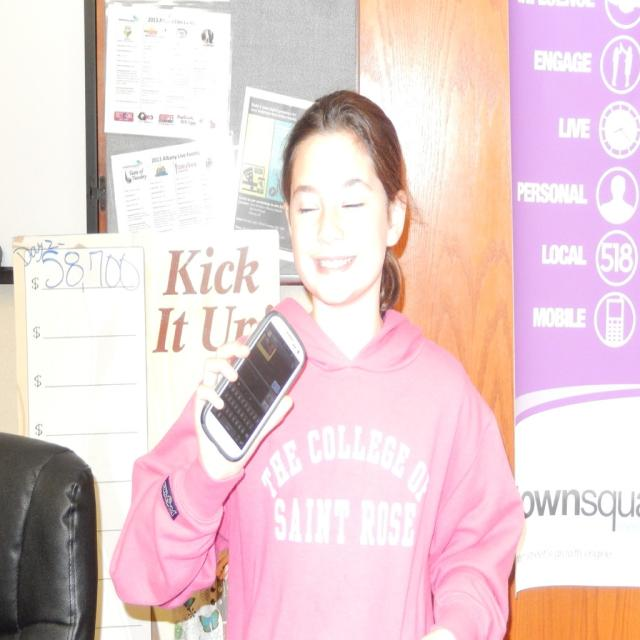Mobile-phone: (192, 304, 316, 467)
